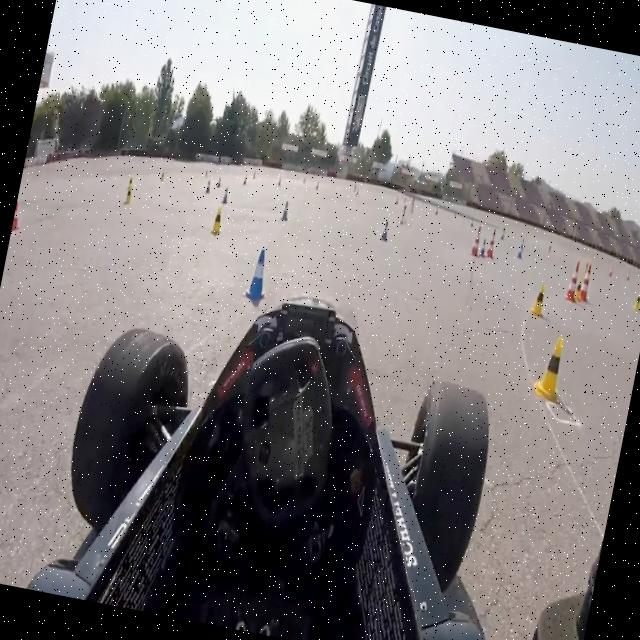blue_cone: (242, 244, 274, 307), (279, 198, 293, 224), (379, 217, 392, 244), (220, 185, 232, 207), (478, 238, 488, 259), (516, 242, 525, 262)
large_orange_cone: (563, 258, 583, 302), (578, 262, 594, 302), (485, 227, 500, 260), (470, 224, 484, 258)
orange_cone: (11, 199, 24, 234)
yellow_cone: (532, 331, 570, 405), (530, 280, 550, 318), (210, 206, 226, 237), (572, 278, 584, 304), (122, 184, 134, 207), (631, 290, 640, 313), (126, 176, 136, 192)
